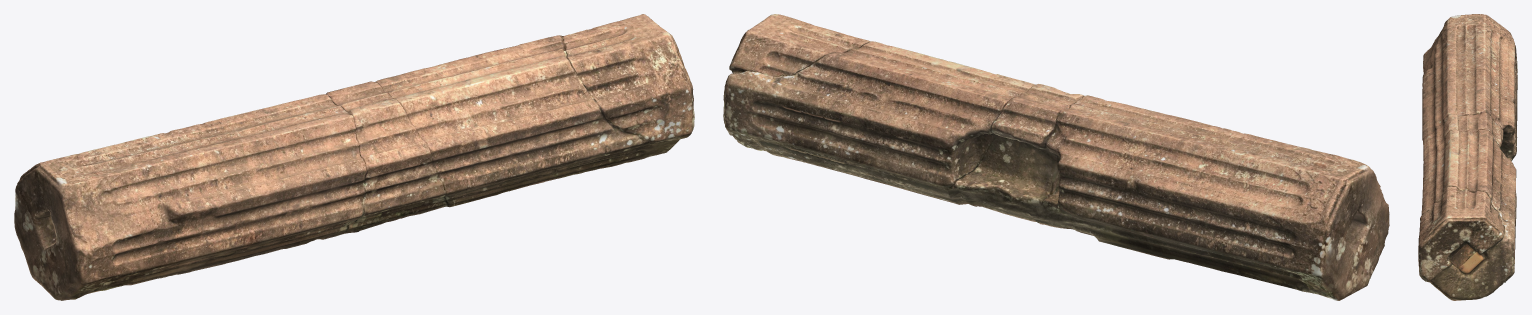
Rendered from 29_MysonSanctuaryB_Trucot_final.glb.
The picture shows the model from 3 angles, left to right: view 1: azimuth 30°, elevation 25°; view 2: azimuth 150°, elevation 25°; view 3: azimuth 270°, elevation 25°; orthographic projection. The views are drawn at different scales.
Size of the model in its own units: 2.54 by 0.5024 by 0.5134.
Materials: 1 (1 with a texture image).
